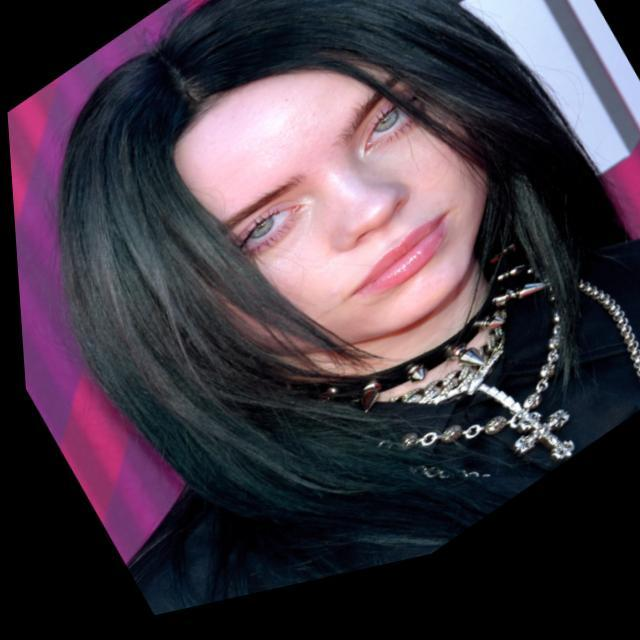Nonhelmet: (73, 0, 528, 405)
